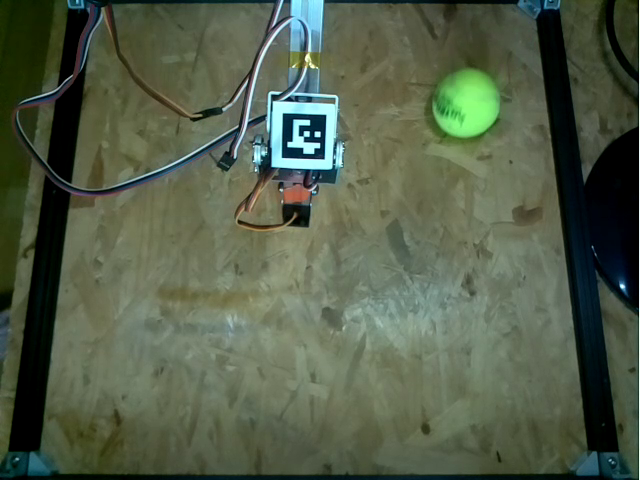tennis_ball: (431, 66, 502, 137)
